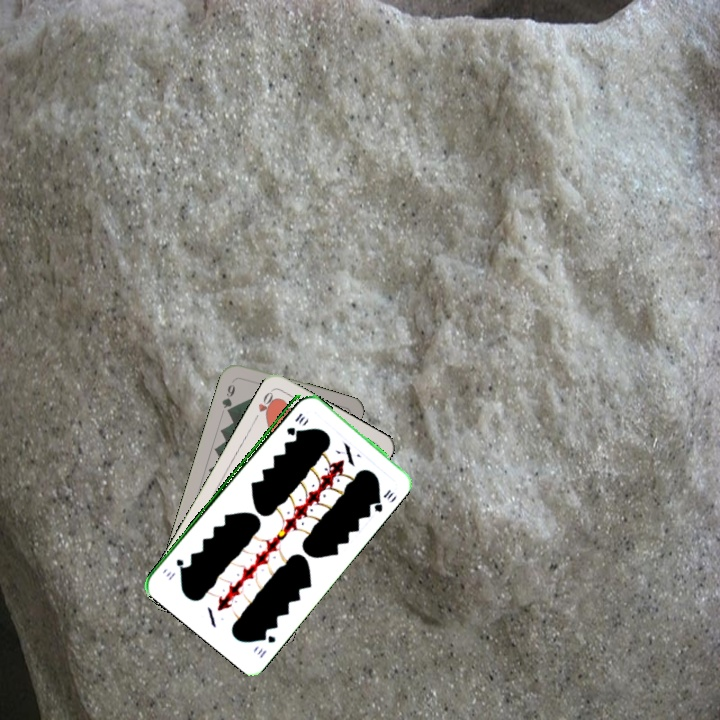G10: (254, 629, 278, 660), (282, 409, 305, 438)
G9: (218, 376, 238, 417)
HO: (250, 386, 279, 424)
